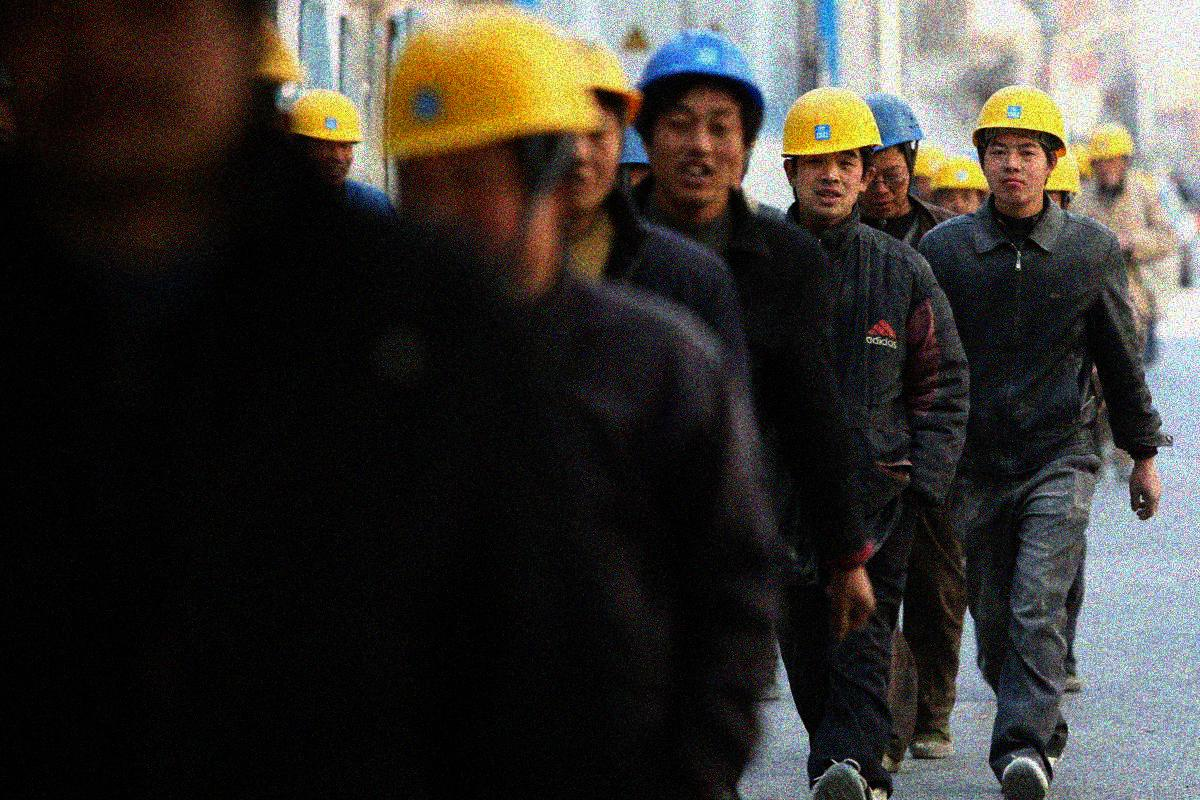helmet: (380, 6, 608, 294), (632, 29, 768, 202), (529, 25, 647, 217), (777, 84, 885, 224), (973, 84, 1069, 207), (281, 85, 370, 195), (849, 89, 923, 218), (236, 11, 297, 116), (929, 155, 989, 222), (1084, 120, 1135, 191), (1036, 152, 1083, 217), (910, 140, 951, 206)
